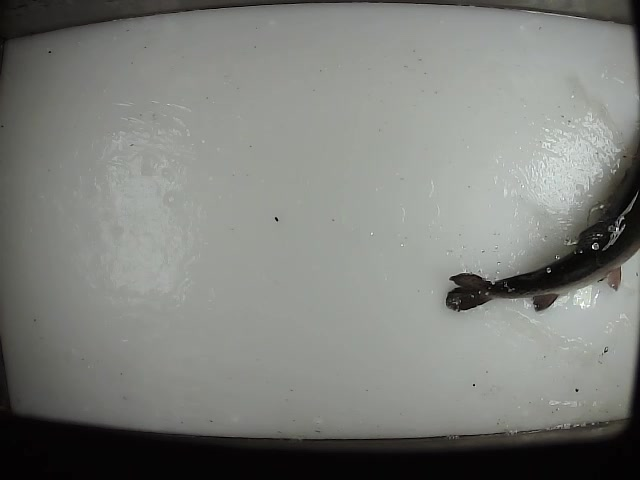fish: (440, 130, 640, 315)
